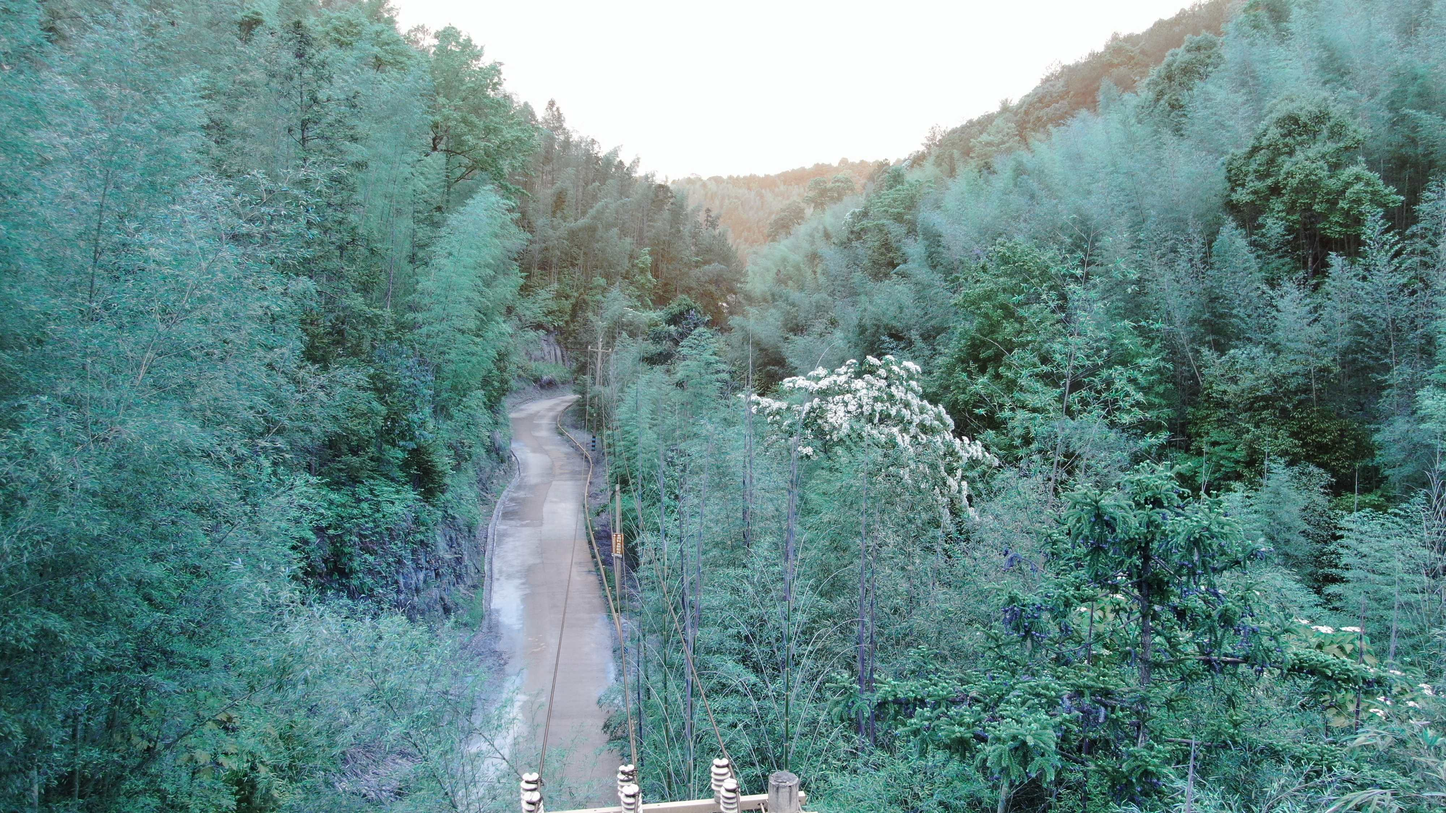severe_soiling_no_discharge_whole: (718, 779, 742, 813), (619, 782, 644, 812), (616, 763, 636, 797), (519, 789, 545, 813)
